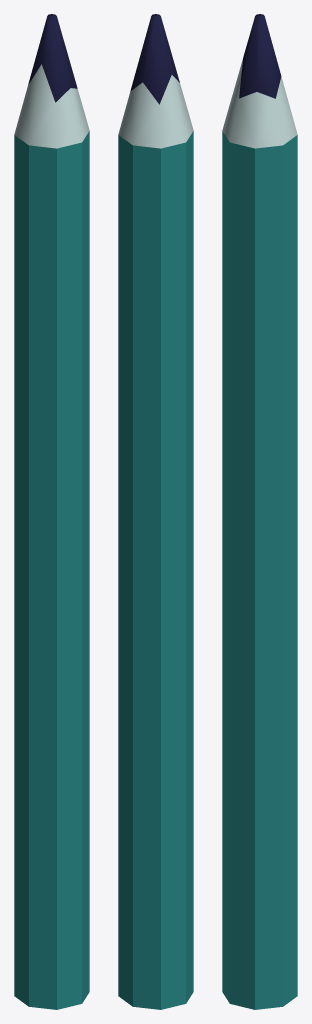
File: SM_Pencil.FBX
The picture shows the model from 3 angles, left to right: view 1: azimuth 30°, elevation 25°; view 2: azimuth 210°, elevation 25°; view 3: azimuth 330°, elevation 25°; orthographic projection.
Parts seen in each view (by area): view 1: SM_Pencil; view 2: SM_Pencil; view 3: SM_Pencil.
Boxes of the visible parts, left/top/right/bottom form: SM_Pencil: left=14, top=14, right=89, bottom=1009; SM_Pencil: left=118, top=14, right=193, bottom=1009; SM_Pencil: left=222, top=14, right=297, bottom=1009.
Size of what is drawn, in the model's own units: 11.09 by 170 by 11.09.
